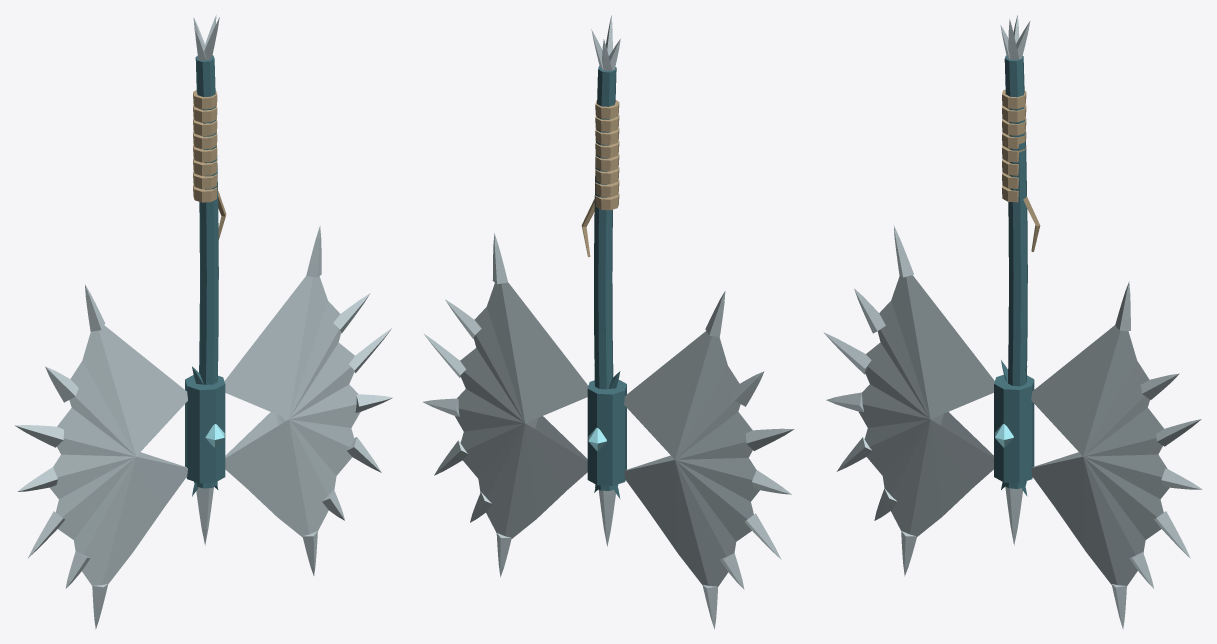
Rendered from ice_axe.glb.
3 views of the same model, side by side, from view 1: azimuth 30°, elevation 25°; view 2: azimuth 150°, elevation 25°; view 3: azimuth 330°, elevation 25° (orthographic).
Visible parts, largest first — view 1: ice_axe; view 2: ice_axe; view 3: ice_axe.
Boxes of the visible parts, x1=… form: ice_axe: x1=14, y1=15, x2=392, y2=629; ice_axe: x1=423, y1=15, x2=794, y2=629; ice_axe: x1=823, y1=15, x2=1202, y2=629.
Bounding box in the file's own units: 1.79 × 2.67 × 0.2379.
